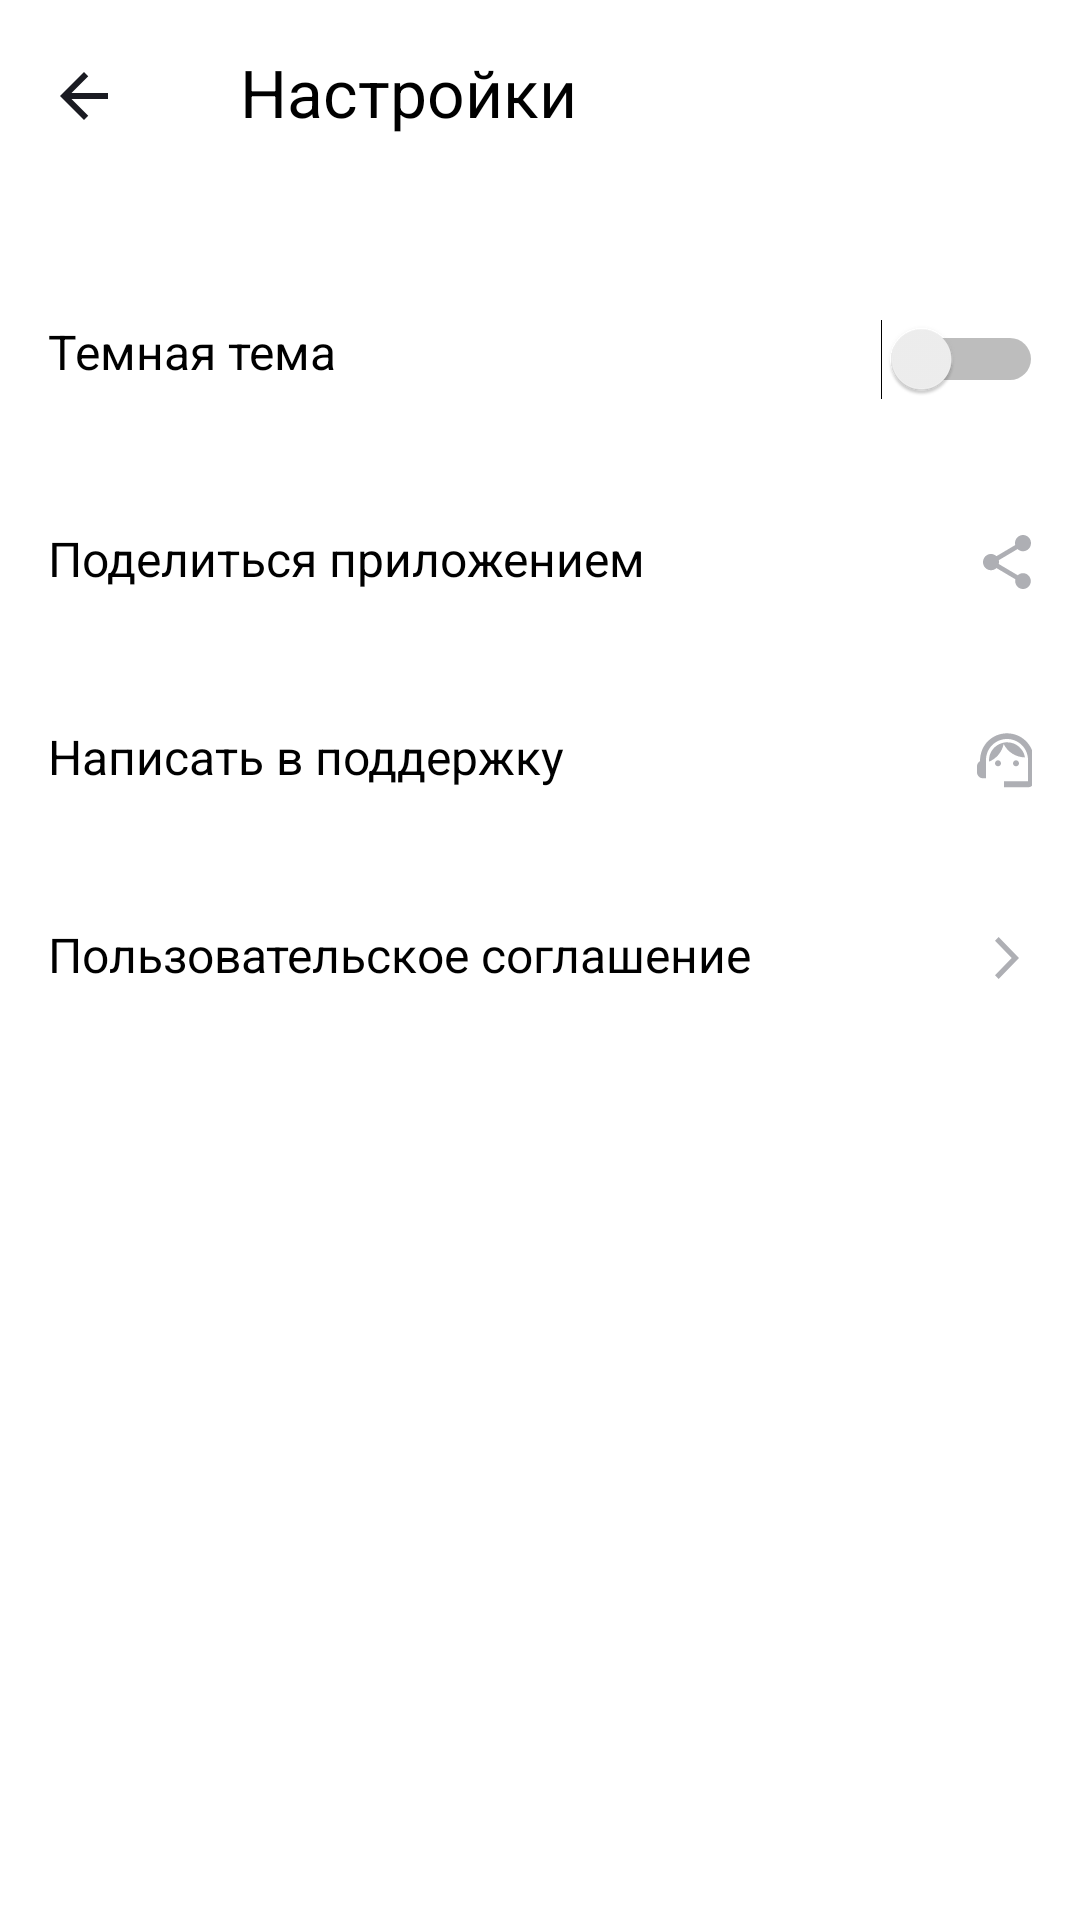

Where to tap for icons on this 1080x1920 app screen, as point (x, y):
arrow back: point (84, 96)
